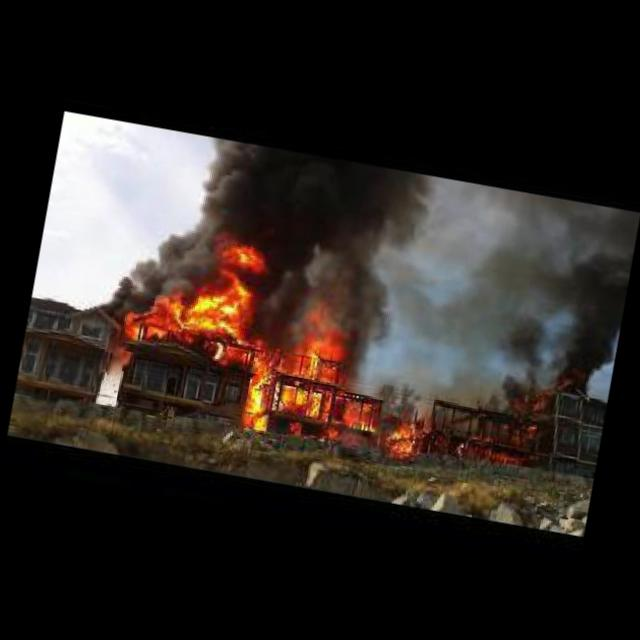fire: (117, 279, 275, 431), (244, 331, 382, 447), (382, 412, 422, 466)
smoke: (125, 128, 442, 329), (466, 192, 640, 426)
